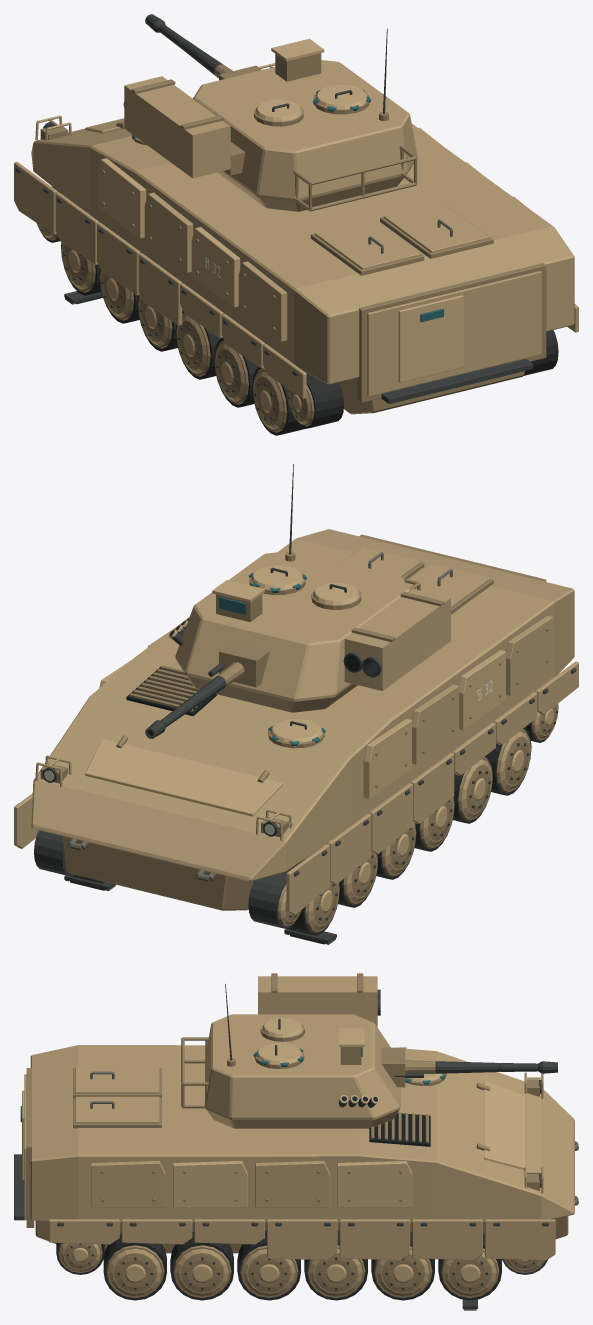
The model's file is bradley.glb.
The picture shows the model from 3 angles, top to bottom: view 1: azimuth 30°, elevation 25°; view 2: azimuth 150°, elevation 25°; view 3: azimuth 270°, elevation 25°; orthographic projection. The views are drawn at different scales.
Visible parts, largest first — view 1: Tall troop hull and long sloped bow.001, Applique armor, troop hatches and rear ramp.001, Two-man Bradley turret.001, Skirt panels • L.001, Launch canister | hollow liner.001, Raised TOW launcher, sights and turret rack.001, WheelL2, WheelL8, WheelL7, WheelL6, Armored keel.001, WheelL3 (+6 smaller); view 2: Tall troop hull and long sloped bow.001, Applique armor, troop hatches and rear ramp.001, Two-man Bradley turret.001, Skirt panels • L.001, Launch canister | hollow liner.001, Armored keel.001, Raised TOW launcher, sights and turret rack.001, WheelL8, WheelL7, WheelL1, M242 Bushmaster and coaxial MG.001, M242 | tube.001 (+8 smaller); view 3: Tall troop hull and long sloped bow.001, Applique armor, troop hatches and rear ramp.001, Two-man Bradley turret.001, Skirt panels • R.001, Launch canister | hollow liner.001, Raised TOW launcher, sights and turret rack.001, WheelR7, WheelR8, WheelR6, WheelR4, WheelR5, WheelR3 (+6 smaller).
Part boxes in pixels (box(x1,y1,x2,y2)): Tall troop hull and long sloped bow.001: box(31, 123, 574, 384); Applique armor, troop hatches and rear ramp.001: box(85, 118, 546, 403); Two-man Bradley turret.001: box(193, 60, 417, 211); Skirt panels • L.001: box(14, 161, 306, 398); Launch canister | hollow liner.001: box(123, 76, 230, 178); Raised TOW launcher, sights and turret rack.001: box(224, 28, 417, 211); WheelL2: box(288, 372, 343, 428); WheelL8: box(252, 367, 305, 435); WheelL7: box(214, 337, 258, 407); WheelL6: box(176, 310, 220, 379); Armored keel.001: box(339, 371, 524, 414); WheelL3: box(61, 242, 101, 295); Tall troop hull and long sloped bow.001: box(31, 529, 574, 881); Applique armor, troop hatches and rear ramp.001: box(85, 534, 552, 816); Two-man Bradley turret.001: box(175, 550, 410, 712); Skirt panels • L.001: box(286, 661, 578, 915); Launch canister | hollow liner.001: box(343, 589, 450, 690); Armored keel.001: box(63, 836, 317, 910); Raised TOW launcher, sights and turret rack.001: box(168, 464, 420, 645); WheelL8: box(487, 727, 531, 795); WheelL7: box(452, 755, 493, 823); WheelL1: box(248, 872, 301, 928); M242 Bushmaster and coaxial MG.001: box(208, 641, 269, 687); M242 | tube.001: box(145, 662, 244, 738); Tall troop hull and long sloped bow.001: box(30, 1045, 574, 1223); Applique armor, troop hatches and rear ramp.001: box(14, 1047, 525, 1227); Two-man Bradley turret.001: box(205, 1014, 400, 1128); Skirt panels • R.001: box(49, 1219, 555, 1260); Launch canister | hollow liner.001: box(258, 976, 380, 1027); Raised TOW launcher, sights and turret rack.001: box(181, 984, 379, 1108); WheelR7: box(170, 1232, 233, 1300); WheelR8: box(103, 1234, 166, 1300); WheelR6: box(237, 1231, 300, 1300); WheelR4: box(371, 1231, 434, 1300); WheelR5: box(304, 1231, 367, 1300); WheelR3: box(438, 1233, 501, 1300).
Bounding box in the file's own units: 2.46 × 2.79 × 4.9.
